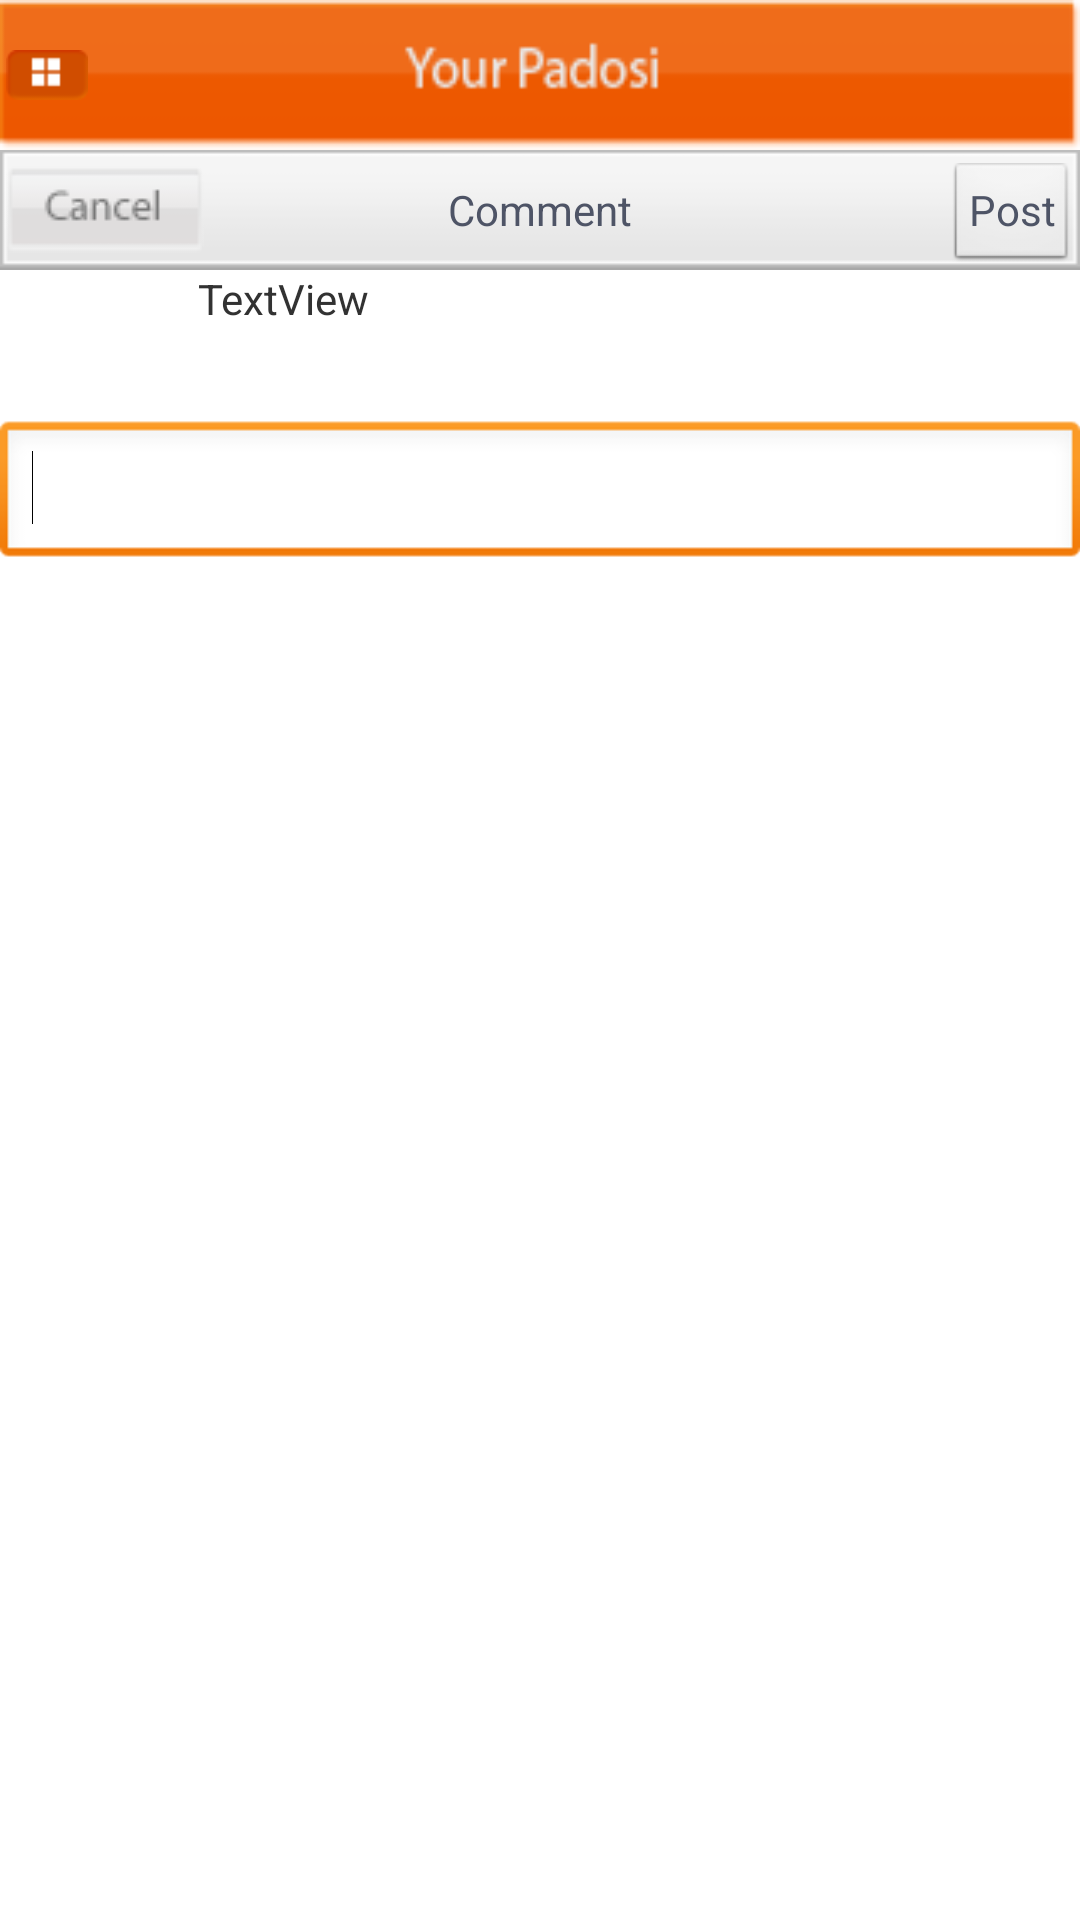

Named icons in this screenshot (1080w x 1920h) and their centers, [x,y]:
menuicon: [47,75]
